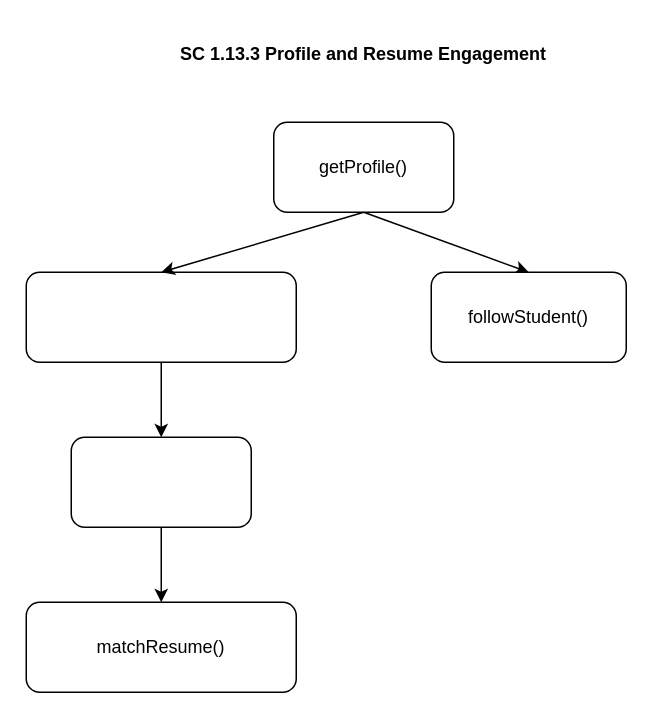
Image size: 668x719. Some labels were removed from this diagram. Here are the shapes that lost their labels. From the top down, the centre of each, then its label:
At point (160, 316): "viewStudentProfile()".
At point (160, 481): "getResume()".
